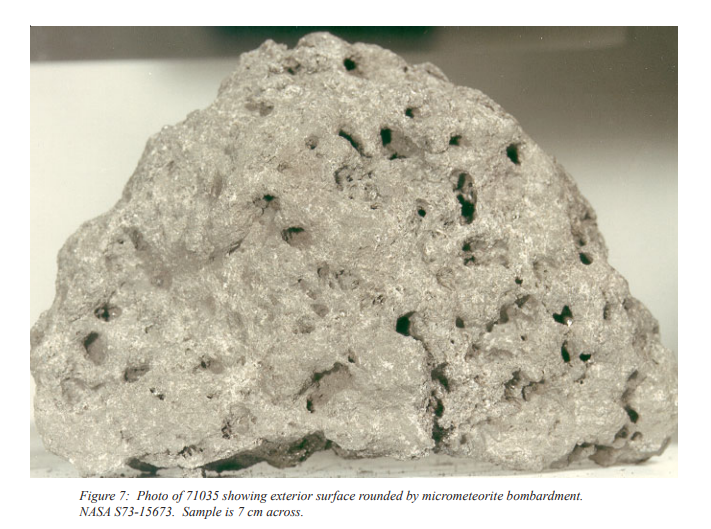Basalt: (39, 55, 663, 455), (186, 175, 656, 444)
